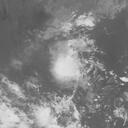cyclone: (49, 49, 84, 83)
